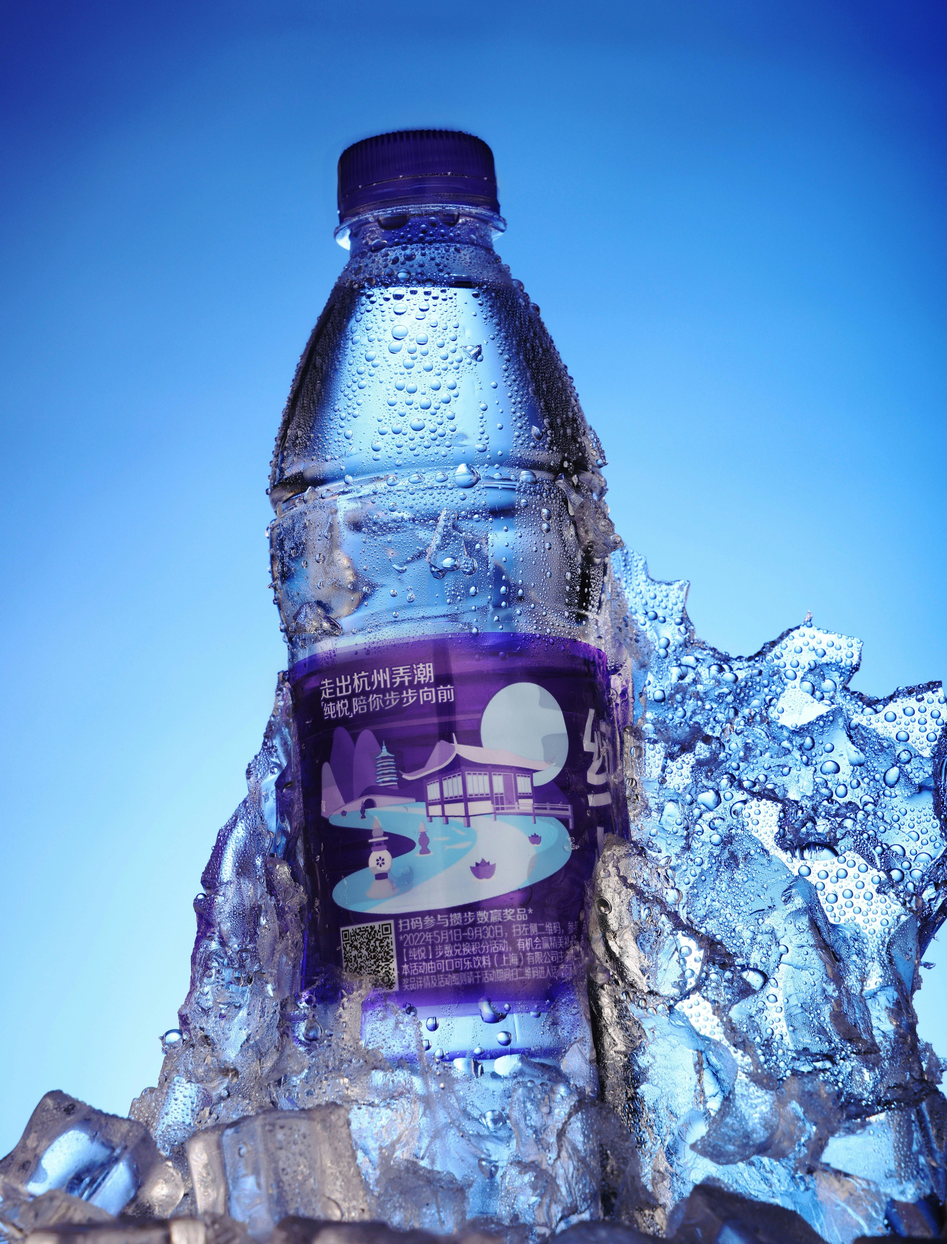Bottle-Detection: (177, 91, 697, 1244)
